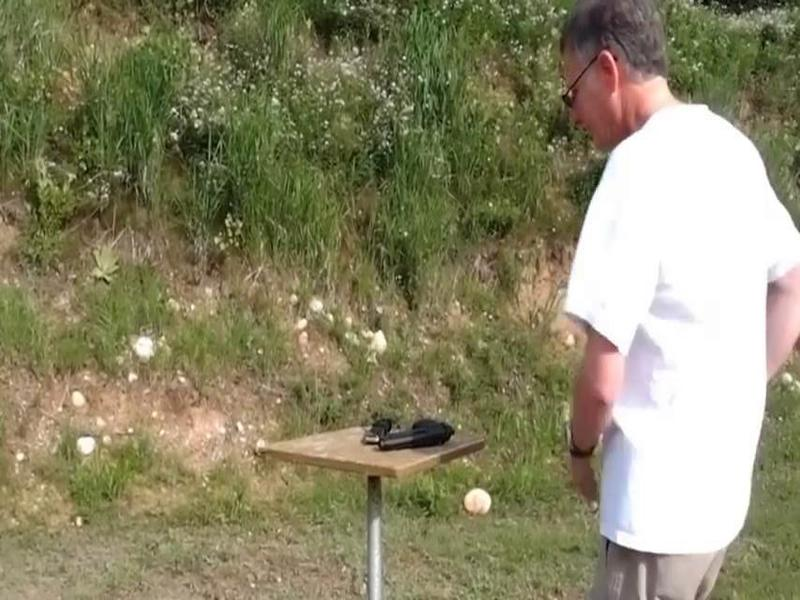Pistola: (376, 407, 480, 475)
